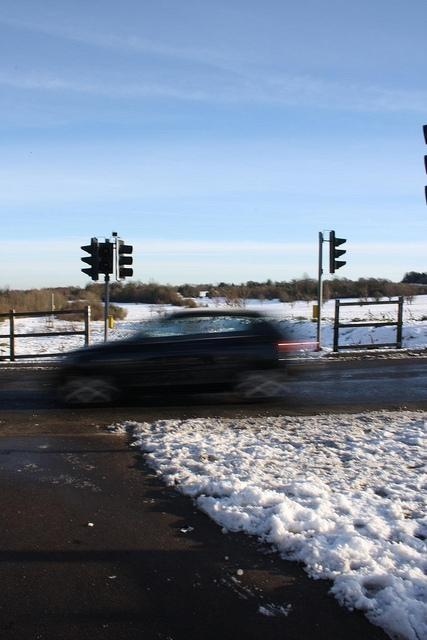car: (46, 304, 295, 411)
